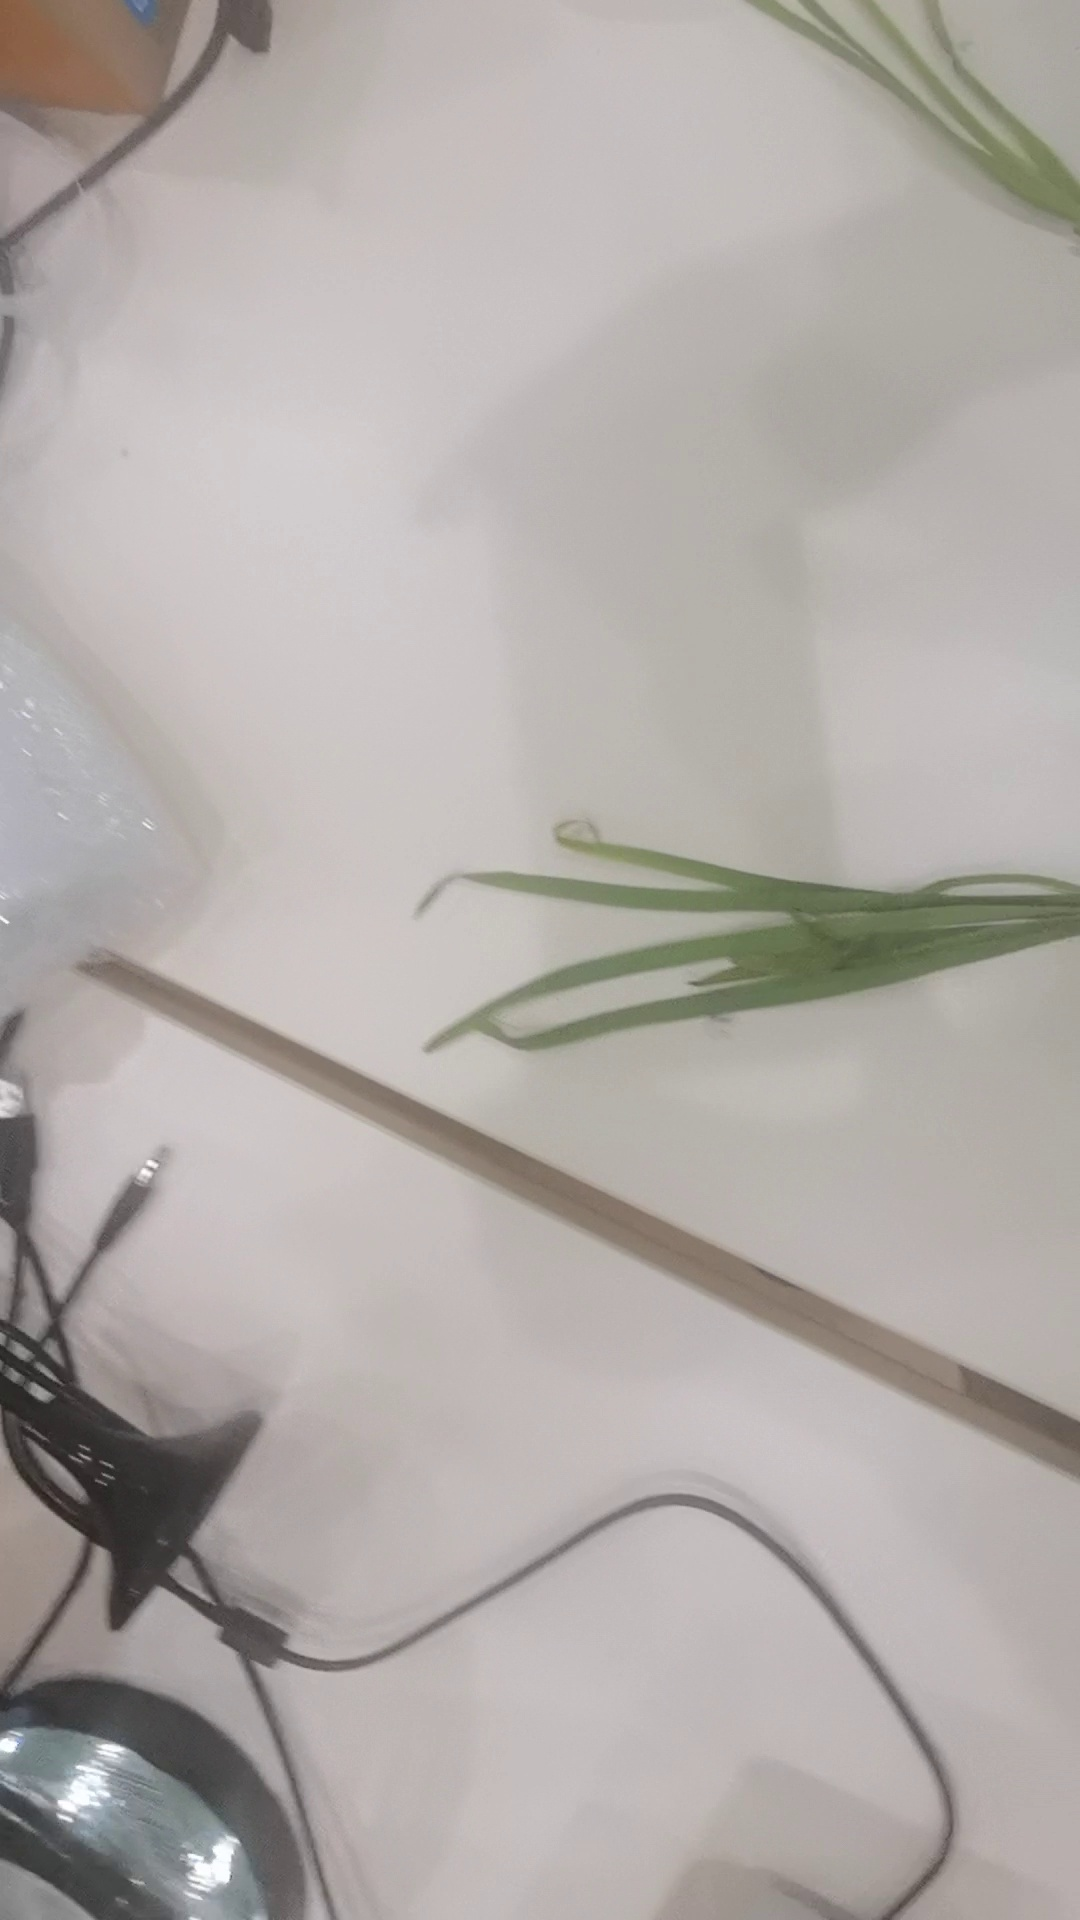chives: (392, 804, 1080, 1069), (746, 3, 1080, 245)
